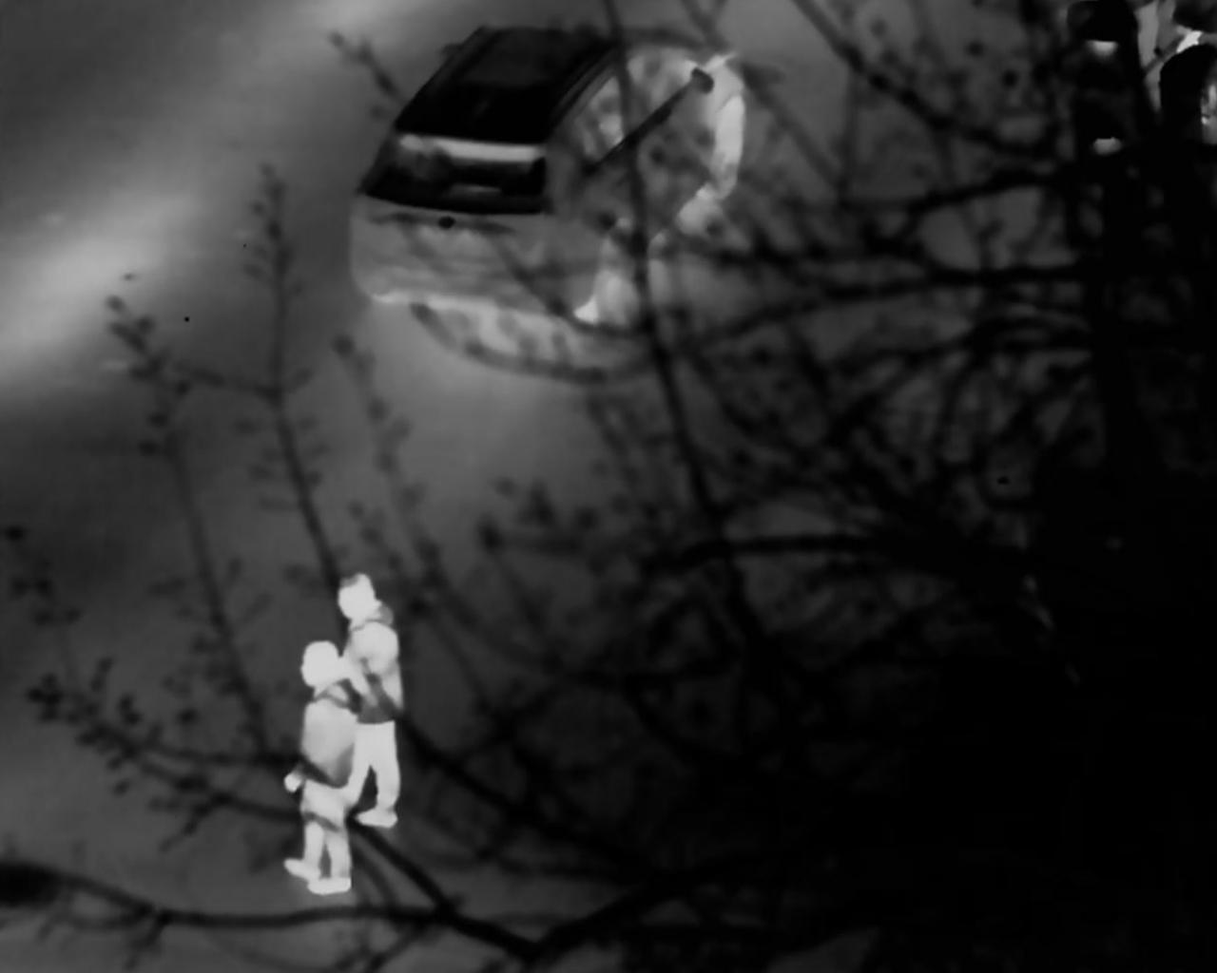person: (330, 569, 408, 833), (279, 639, 357, 897)
